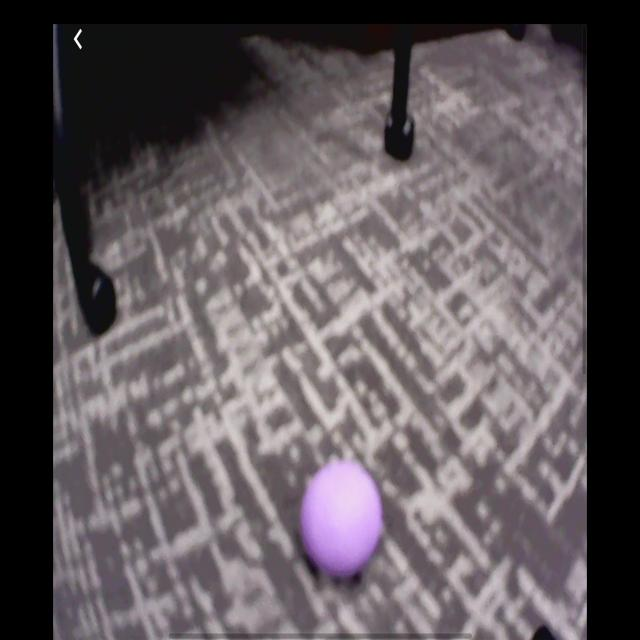ball: (301, 464, 385, 580)
